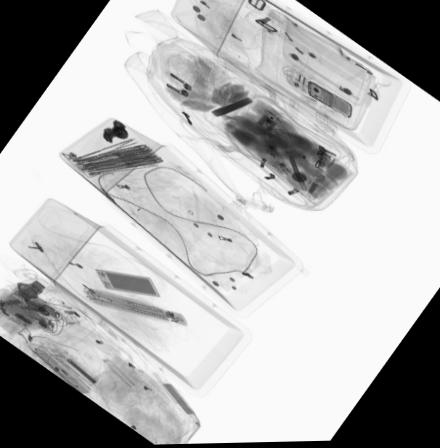Powerbank: (92, 268, 159, 297)
